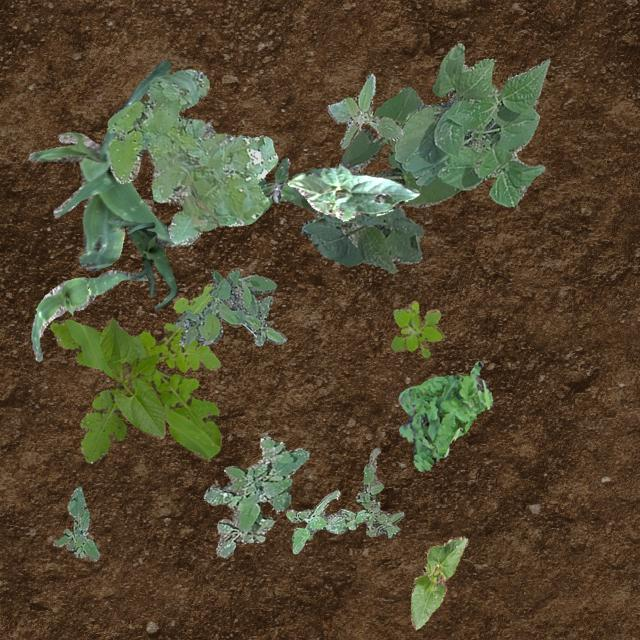crop: (286, 85, 460, 272), (27, 58, 176, 270), (394, 42, 548, 205), (30, 268, 146, 360), (99, 316, 164, 438), (286, 162, 418, 220), (106, 218, 176, 308), (409, 536, 466, 628)
weed: (48, 282, 220, 462), (106, 68, 276, 245), (202, 436, 308, 556), (397, 360, 492, 470), (172, 268, 286, 346), (326, 72, 402, 148), (284, 490, 370, 552), (354, 446, 402, 536), (52, 484, 98, 560), (390, 299, 442, 356), (256, 156, 296, 212)
